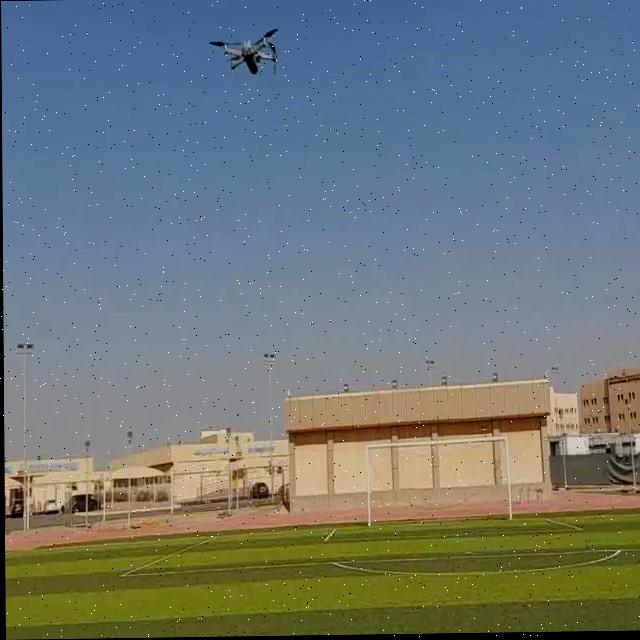drone: (204, 24, 285, 85)
